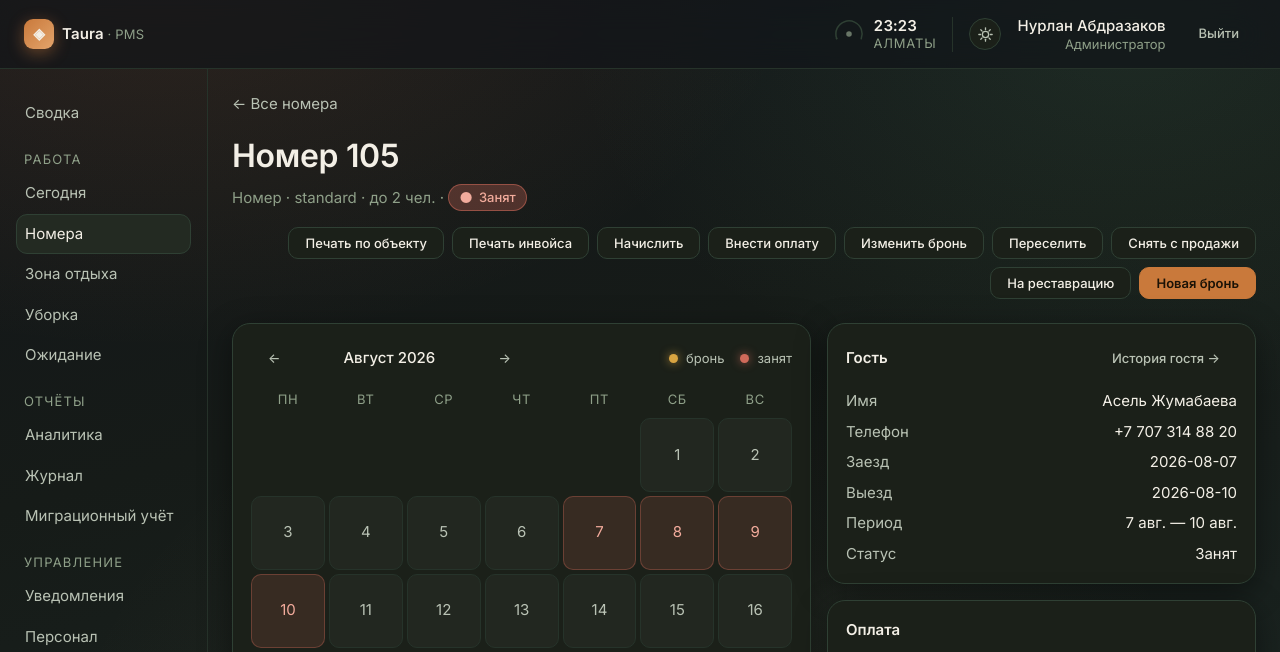
it: §4 the invoice › itemises the rate, each charge, totals, and keeps the deposit separate
The width and height of the screenshot is (1280, 652).
Click the button "Печать инвойса": (521, 243) [452, 227, 589, 259]
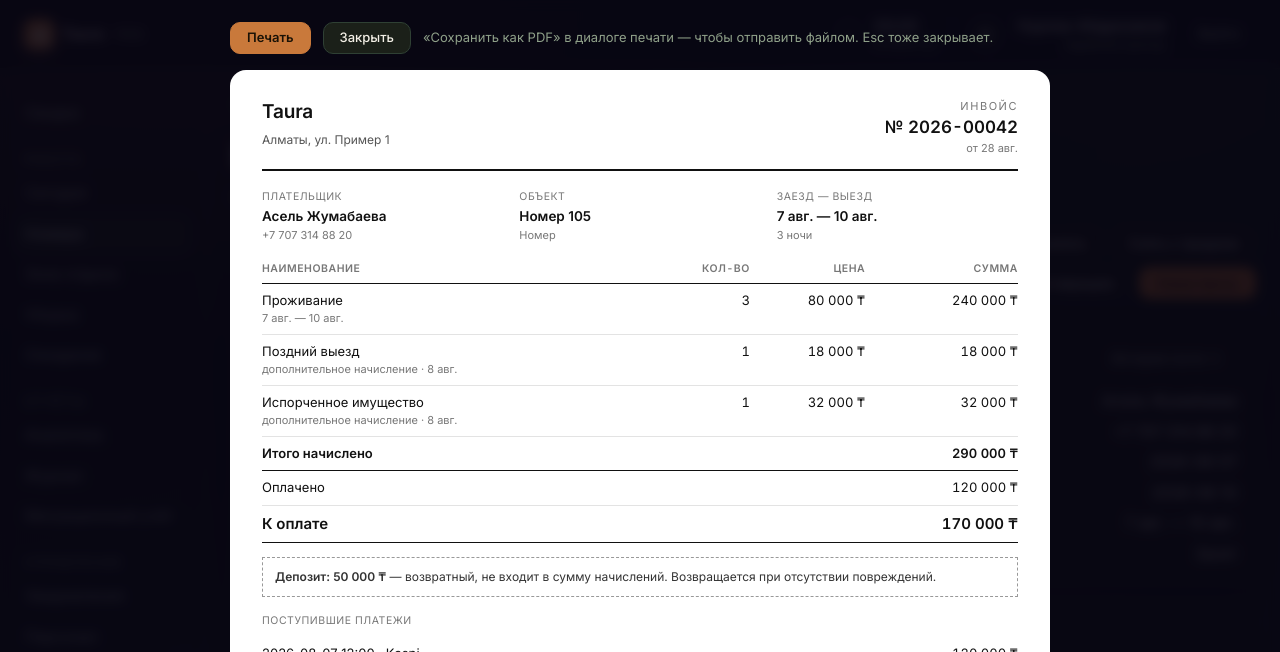
Expected: the text "№ 2026-00042" is shown, [885, 114, 1018, 140]
Expected: the heading "Taura" is shown, [262, 100, 313, 123]
Expected: the text "Алматы, ул. Пример 1" is shown, [262, 130, 390, 148]
